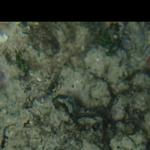dead: (1, 23, 147, 148)
